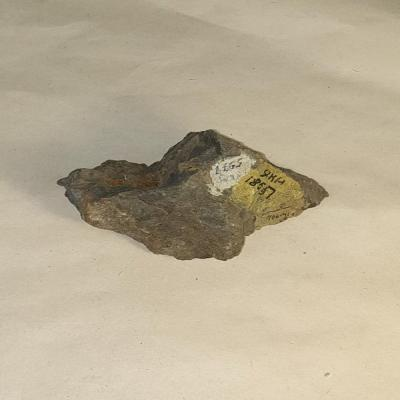mineralogy: (56, 130, 329, 262)
